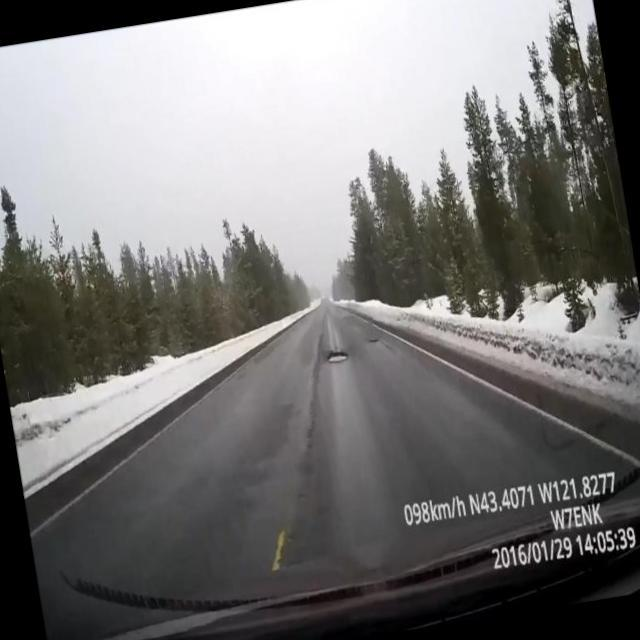Pothole: (327, 352, 348, 364)
